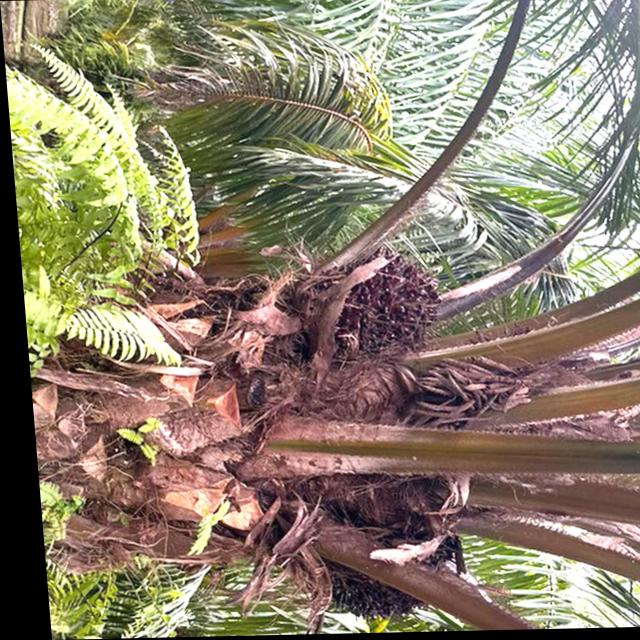ripe: (308, 245, 452, 376)
